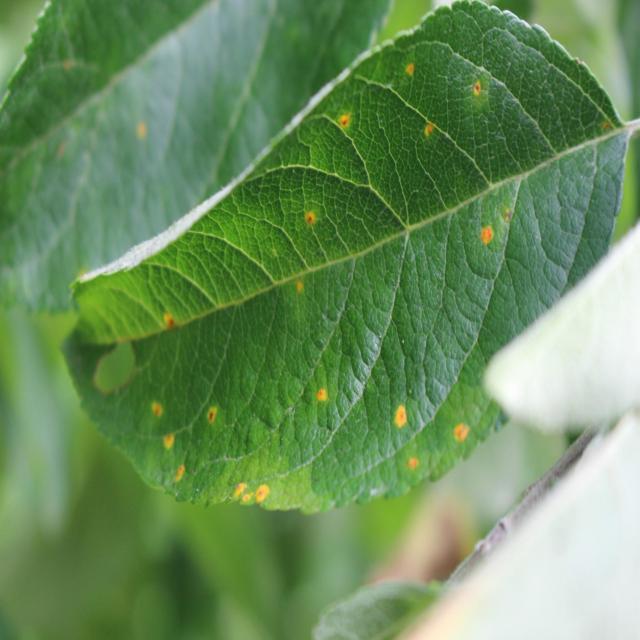Rust: (446, 396, 478, 458), (226, 479, 280, 510), (149, 307, 187, 341), (466, 70, 497, 110), (388, 394, 413, 441), (400, 450, 428, 486), (326, 105, 359, 135), (158, 422, 182, 462), (472, 222, 502, 250), (396, 51, 420, 85), (147, 391, 169, 425), (313, 376, 333, 412), (297, 208, 324, 233), (168, 458, 195, 482), (420, 118, 442, 146), (205, 398, 221, 433), (295, 278, 308, 296)
